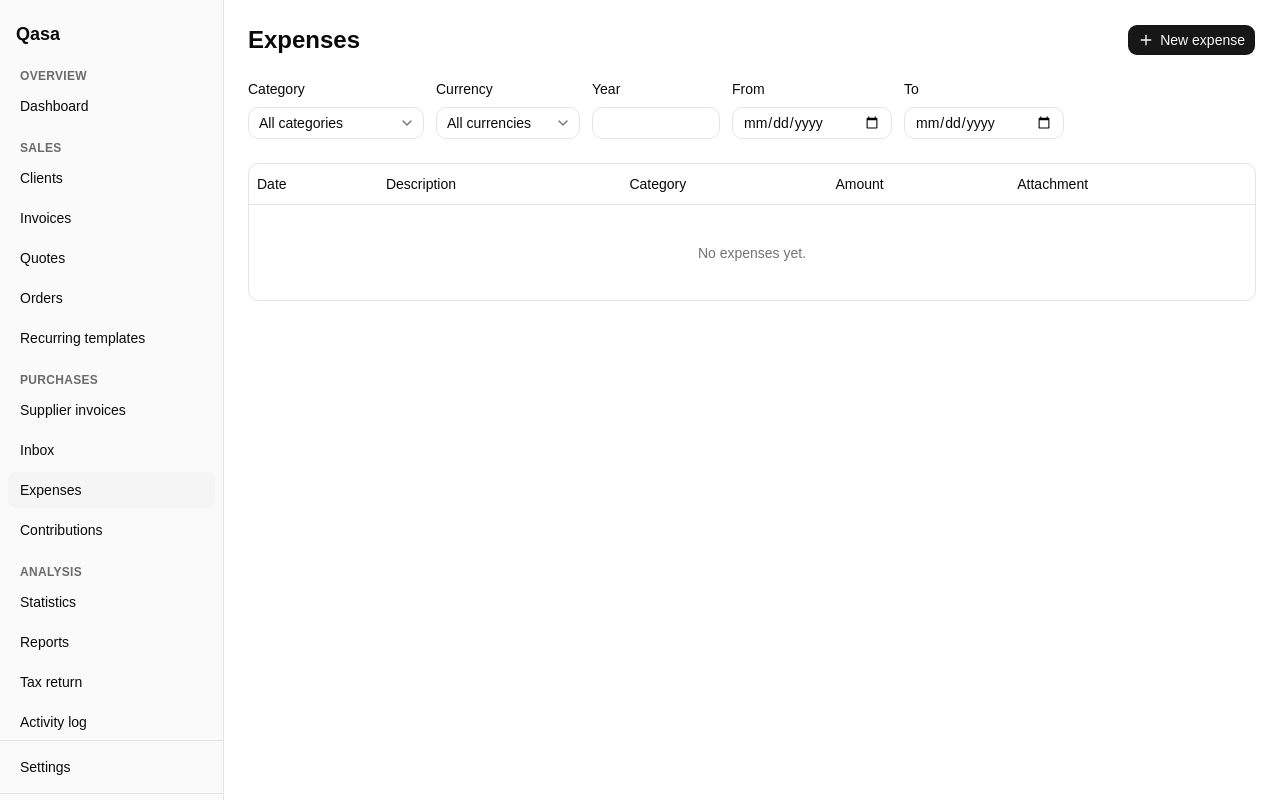
Test: expenses list › creates a new expense from the sheet
Click the button "New expense".
click(1192, 40)  # box x1=1127 y1=24 x2=1256 y2=56
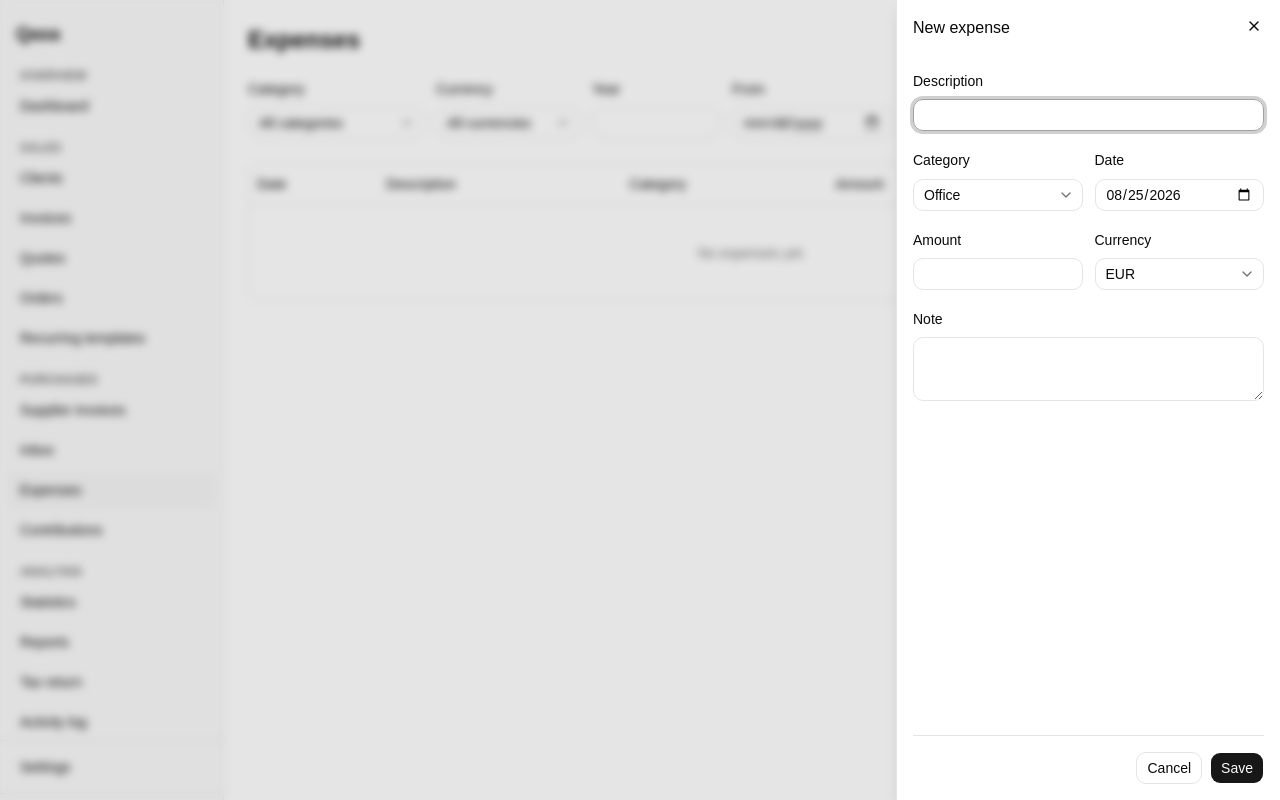
Type "Conference ticket" into the field labelled "Description".
click(1088, 115); type("Conference ticket")  # box x1=913 y1=99 x2=1264 y2=131
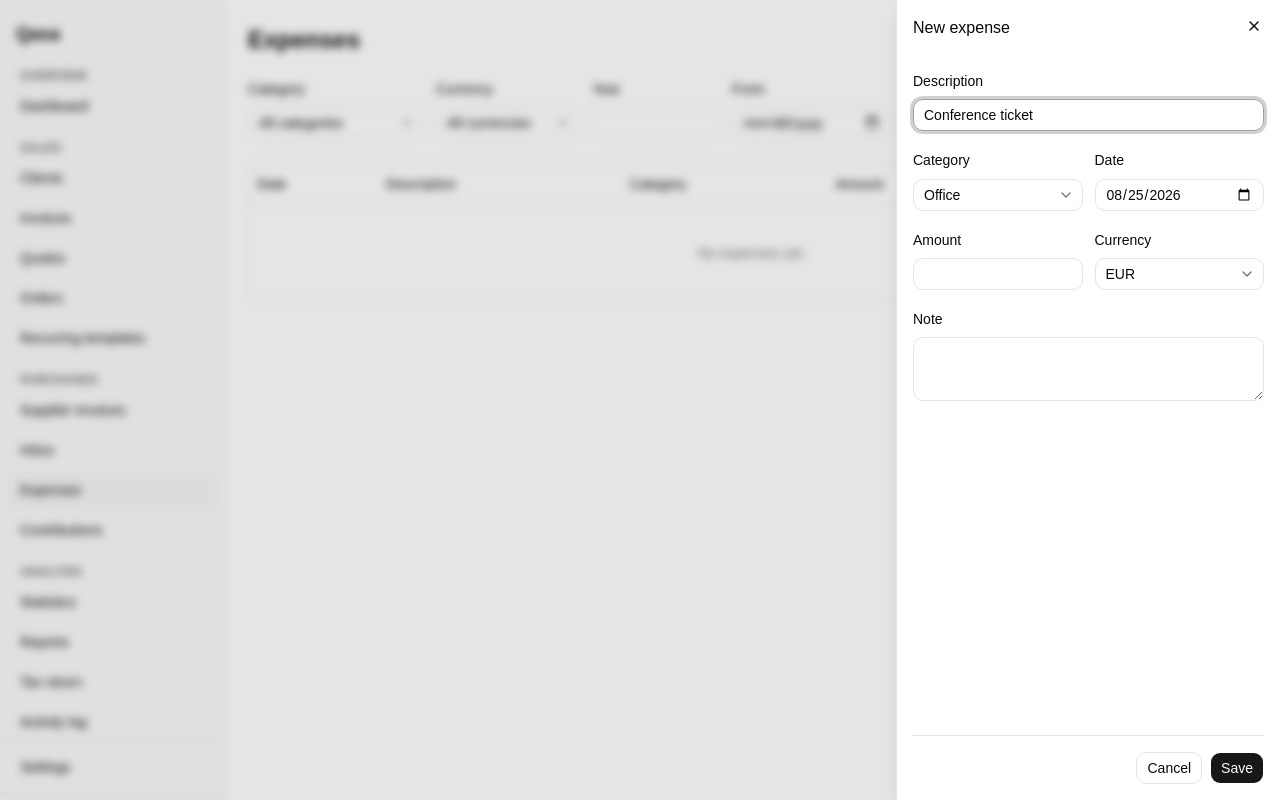
Type "100" into the field labelled "Amount".
click(998, 274); type("100")  # box x1=913 y1=258 x2=1082 y2=290
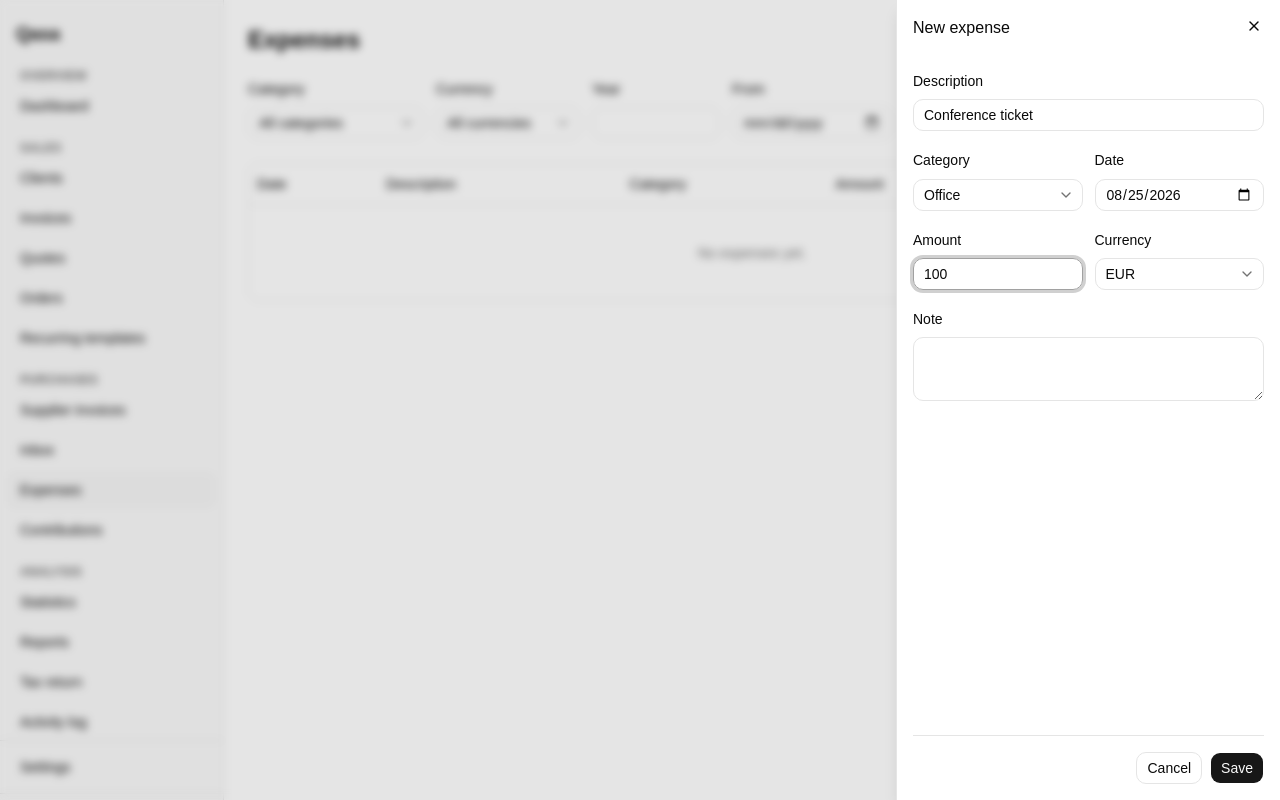
Click the button "Save".
click(1237, 768)  # box x1=1210 y1=752 x2=1264 y2=784
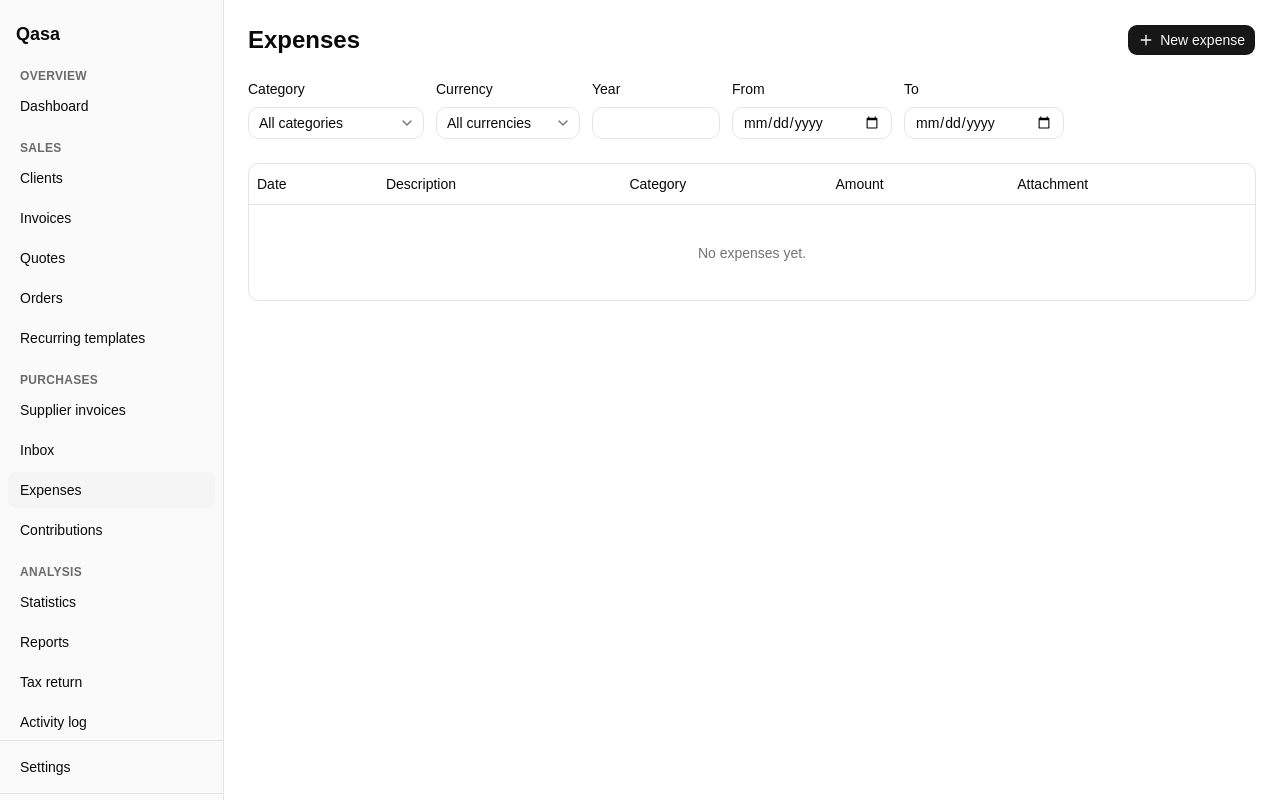
expect the dialog is gone: met
